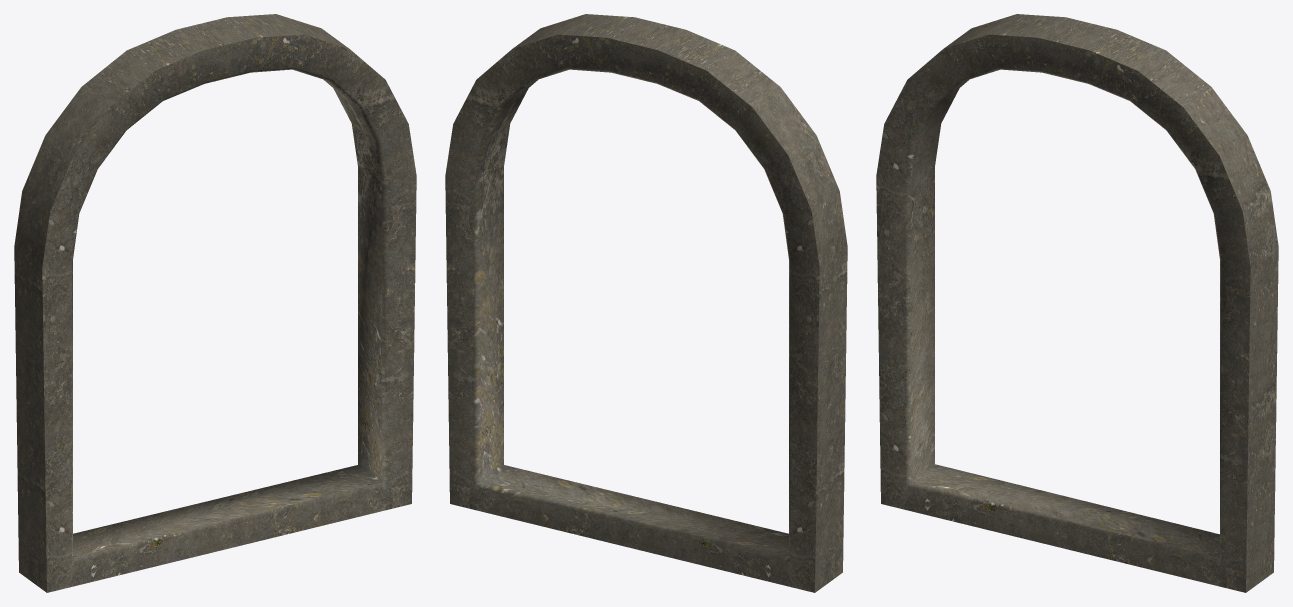
File: Ruins door frame.fbx
3 views of the same model, side by side, from view 1: azimuth 30°, elevation 25°; view 2: azimuth 150°, elevation 25°; view 3: azimuth 330°, elevation 25° (orthographic).
Visible parts, largest first — view 1: 扉の枠; view 2: 扉の枠; view 3: 扉の枠.
Boxes of the visible parts, box(x1,y1,x2,y2) form: 扉の枠: box(14, 14, 416, 592); 扉の枠: box(445, 14, 847, 592); 扉の枠: box(876, 14, 1278, 592).
Bounding box in the file's own units: 48.79 × 62.82 × 6.32.
